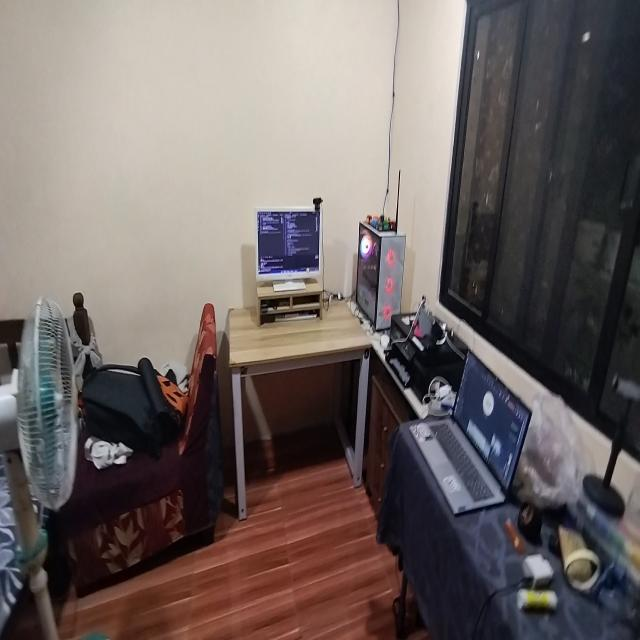table: (226, 289, 376, 526)
